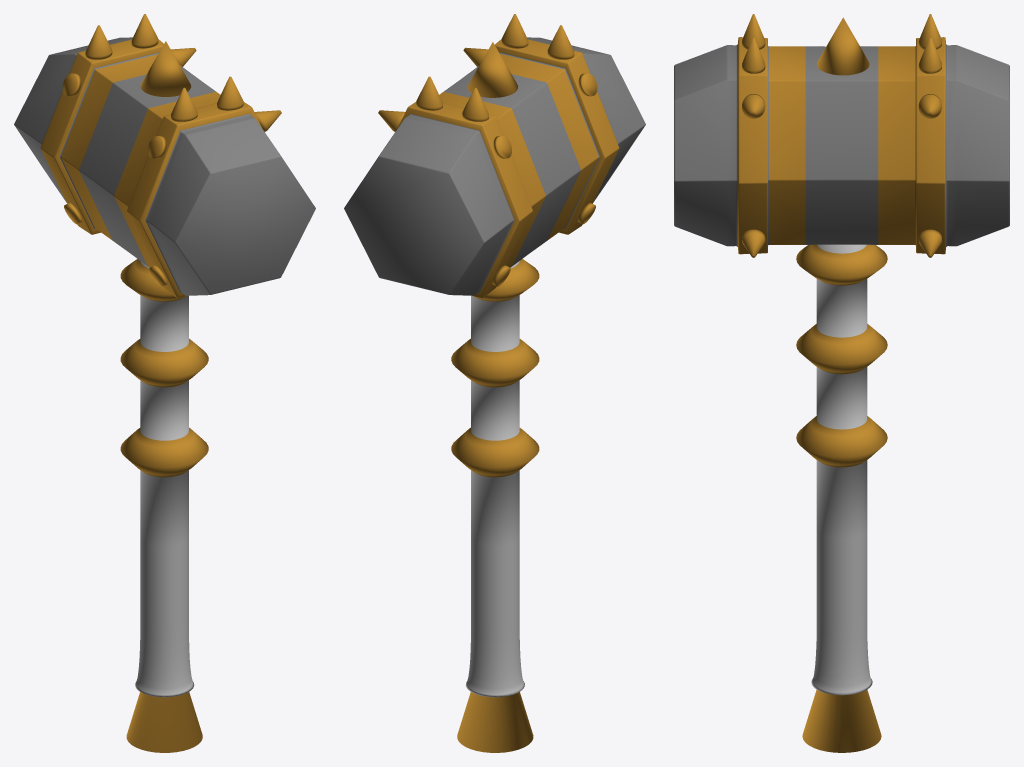
The picture shows the model from 3 angles, left to right: view 1: azimuth 30°, elevation 25°; view 2: azimuth 150°, elevation 25°; view 3: azimuth 270°, elevation 25°; orthographic projection. The views are drawn at different scales.
Visible parts, largest first — view 1: Cube.003; view 2: Cube.003; view 3: Cube.003.
Boxes of the visible parts, x1=… form: Cube.003: x1=14, y1=14, x2=315, y2=752; Cube.003: x1=344, y1=14, x2=645, y2=752; Cube.003: x1=674, y1=14, x2=1009, y2=752.
Bounding box in the file's own units: 153 × 678 × 287.
